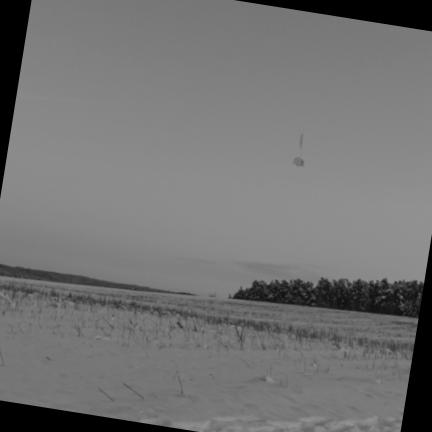Shahed: (293, 134, 303, 166)
